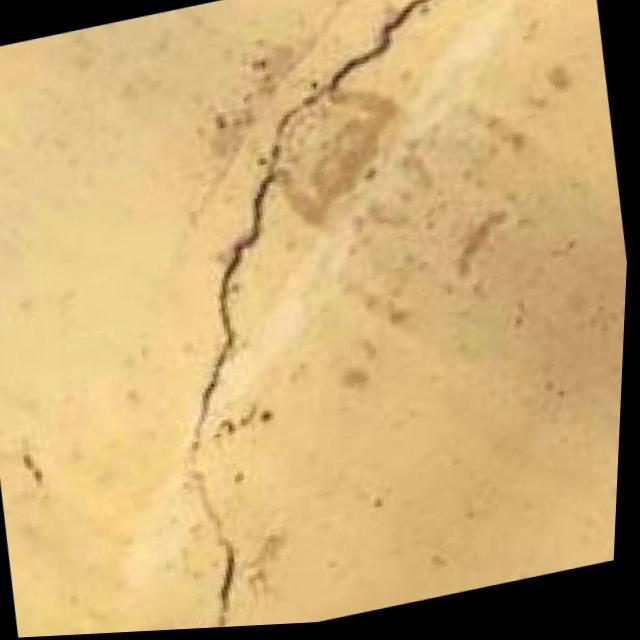Crack: (82, 0, 631, 636)
